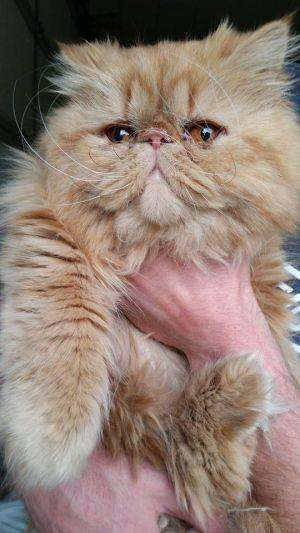persian: (30, 14, 300, 256)
